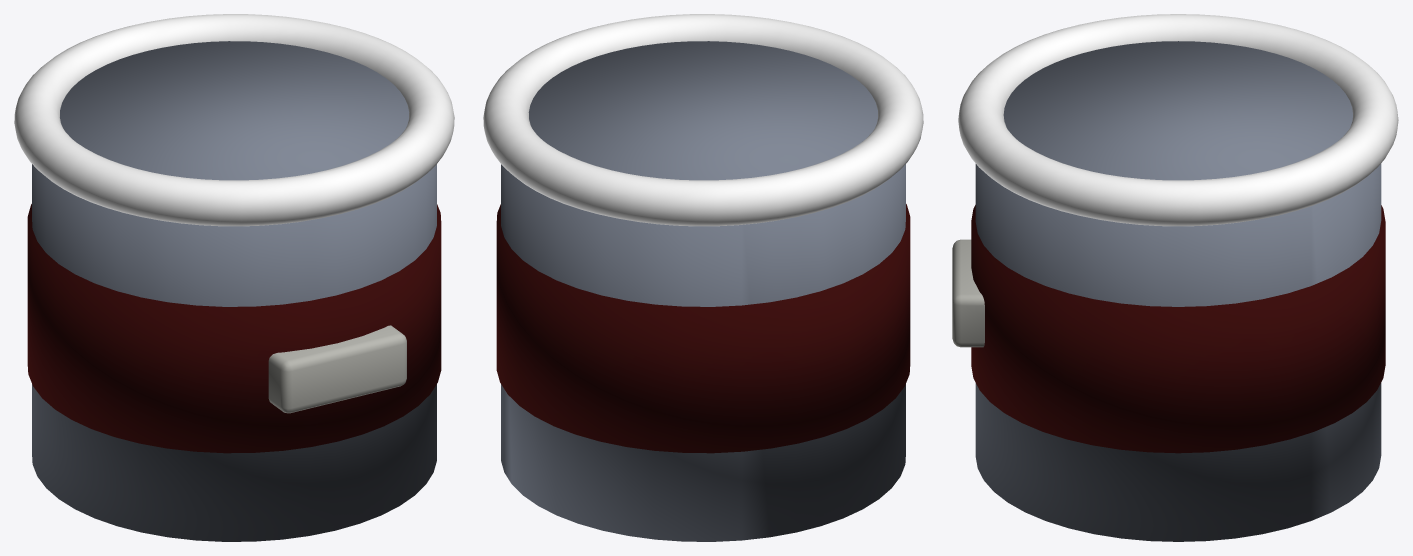
File: food-can.obj
3 renders of one model, left to right at view 1: azimuth 30°, elevation 25°; view 2: azimuth 150°, elevation 25°; view 3: azimuth 270°, elevation 25°, orthographic.
Visible parts, largest first — view 1: food-can; view 2: food-can; view 3: food-can.
Part boxes in pixels (x1,y1,x2,y2): food-can: [14, 14, 454, 541]; food-can: [483, 14, 923, 541]; food-can: [952, 14, 1398, 541].
Size of the model in its own units: 0.152 by 0.136 by 0.154.
